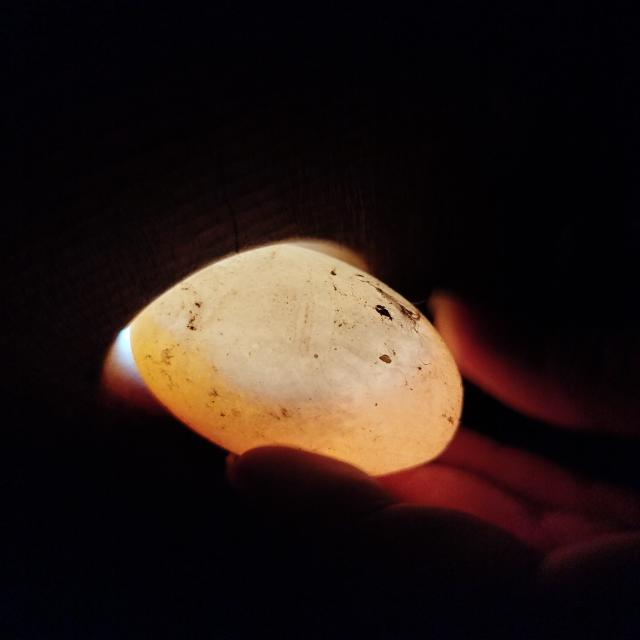Camara de Ar: (142, 242, 437, 397)
